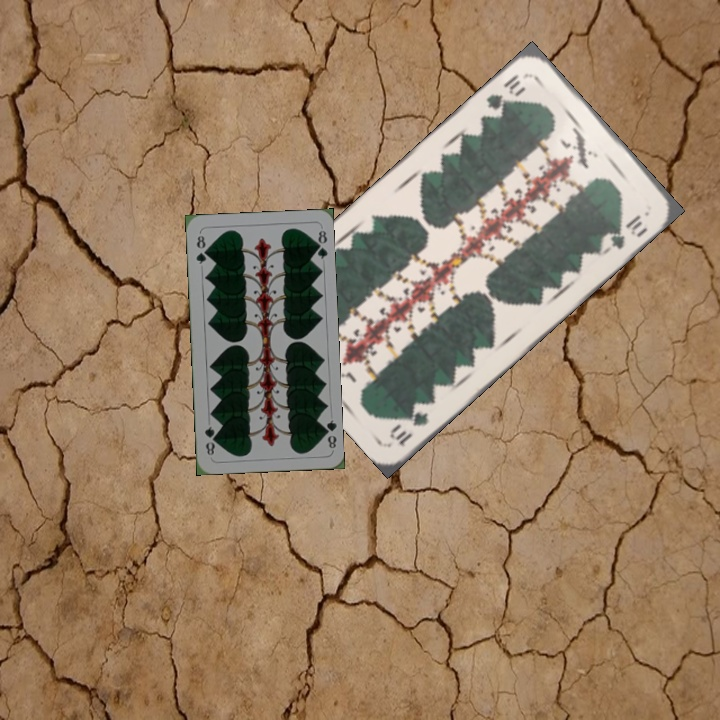G10: (482, 69, 529, 121), (385, 407, 431, 449)
G8: (318, 416, 339, 451), (192, 231, 209, 267)
